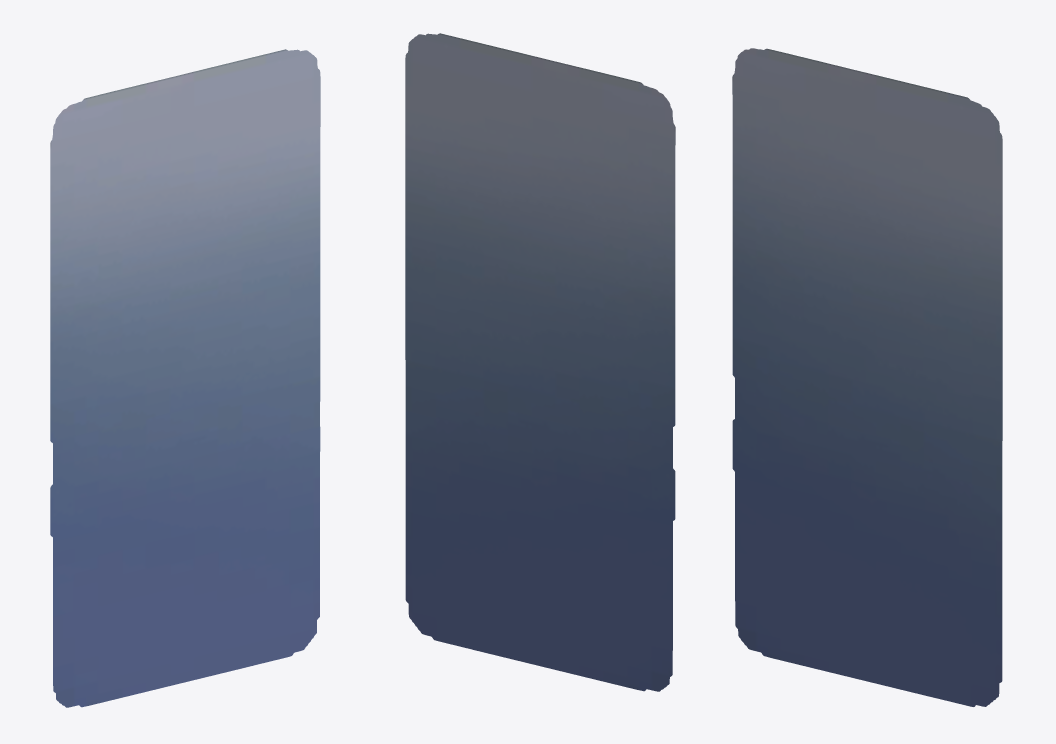
Rendered from Player_Boy_Alan_LookAtPhone_00.fbx.
The picture shows the model from 3 angles, left to right: view 1: azimuth 30°, elevation 25°; view 2: azimuth 150°, elevation 25°; view 3: azimuth 330°, elevation 25°; orthographic projection.
Parts seen in each view (by area): view 1: LookAtPhone_00_Phone_Model; view 2: LookAtPhone_00_Phone_Model; view 3: LookAtPhone_00_Phone_Model.
Part boxes in pixels (x1=…): LookAtPhone_00_Phone_Model: x1=50, y1=49, x2=320, y2=707; LookAtPhone_00_Phone_Model: x1=405, y1=33, x2=675, y2=691; LookAtPhone_00_Phone_Model: x1=732, y1=48, x2=1002, y2=706.
Size of the model in its own units: 0.066 by 0.1328 by 0.0081.
Materials: 1 (1 with a texture image).
